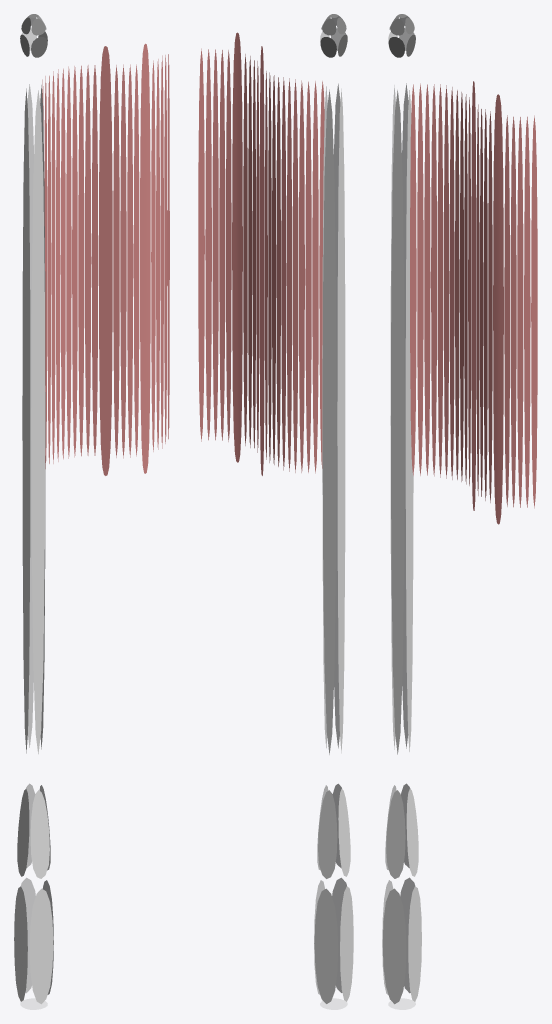
The model's file is flag_red.glb.
3 renders of one model, left to right at view 1: azimuth 30°, elevation 25°; view 2: azimuth 150°, elevation 25°; view 3: azimuth 330°, elevation 25°, orthographic.
Visible parts, largest first — view 1: flag_red; view 2: flag_red; view 3: flag_red.
Boxes of the visible parts, x1,y1,x2,y2 form: flag_red: [14, 14, 169, 1009]; flag_red: [198, 14, 353, 1009]; flag_red: [382, 14, 537, 1009].
Size of the model in its own units: 0.1969 by 1.25 by 0.035.
